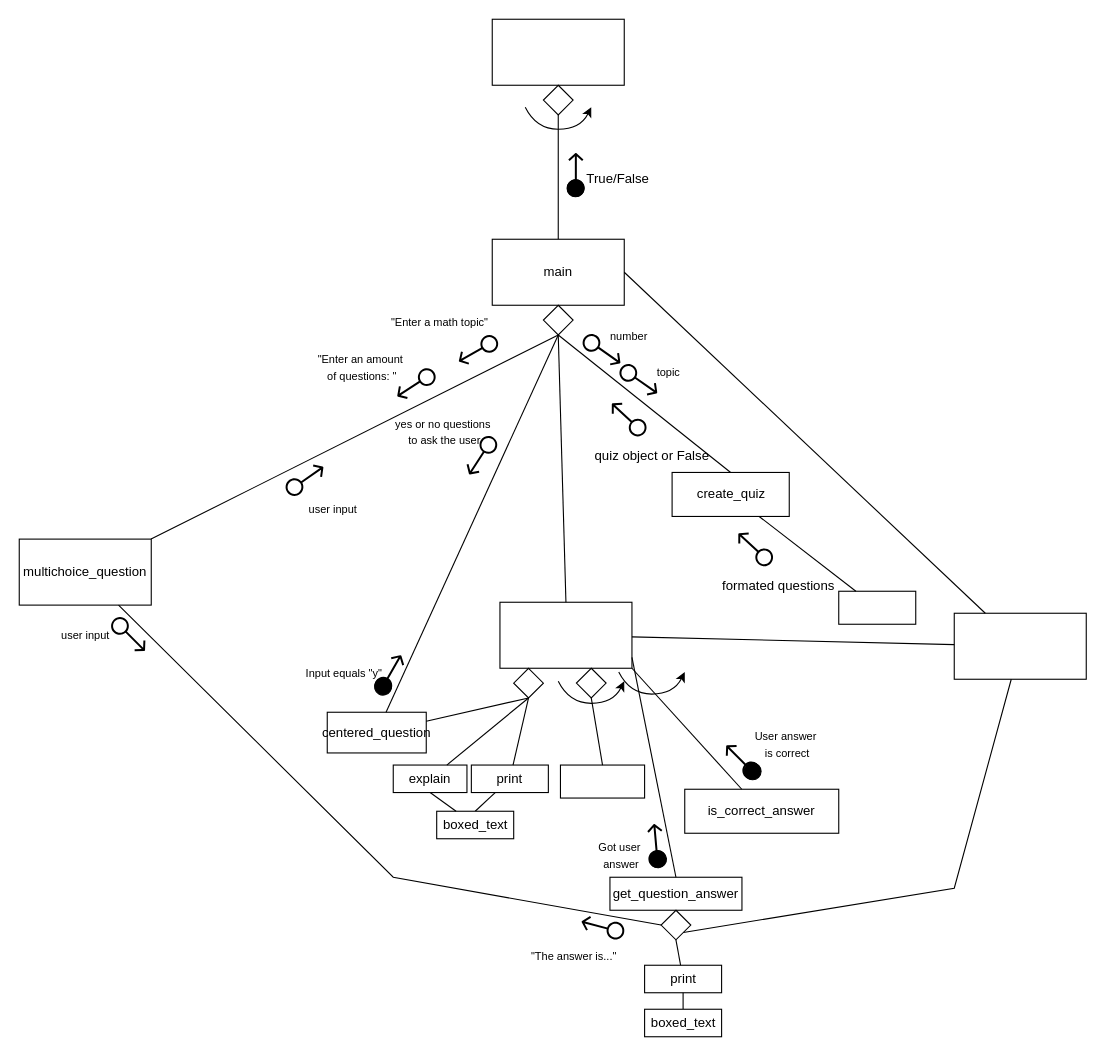
Image size: 1106x1056. Some labels were removed from this diagram. Each missing label, with the centre of its shape:
"__main__" belongs at (557,51).
"clear_screen" belongs at (1019,645).
"display_quiz" belongs at (565,634).
"format" belongs at (877,607).
"update_quiz" belongs at (602,781).
